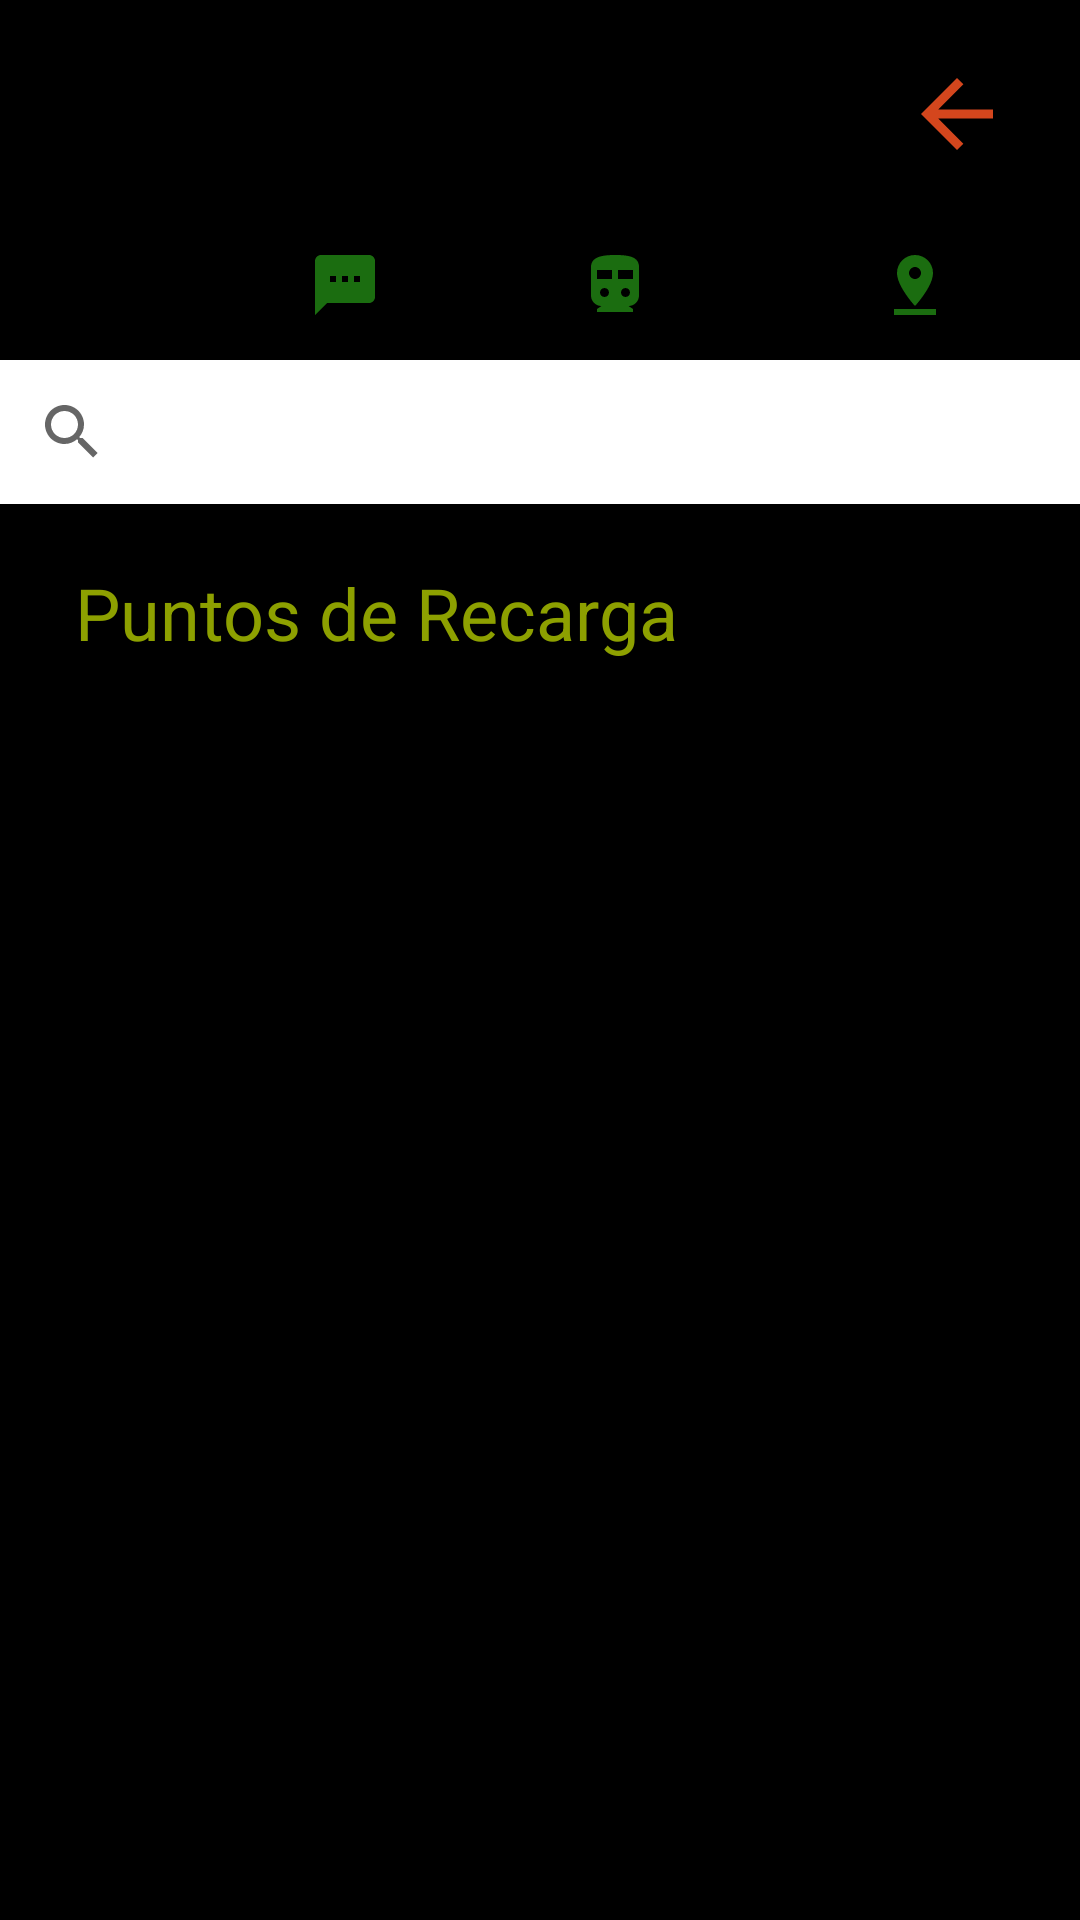

Point at icon controls on the screen. Image size 1080w x 1920h, points as point (x, y).
back flecha: point (957, 114)
puntoicono: point (915, 285)
rutaicono: point (615, 283)
